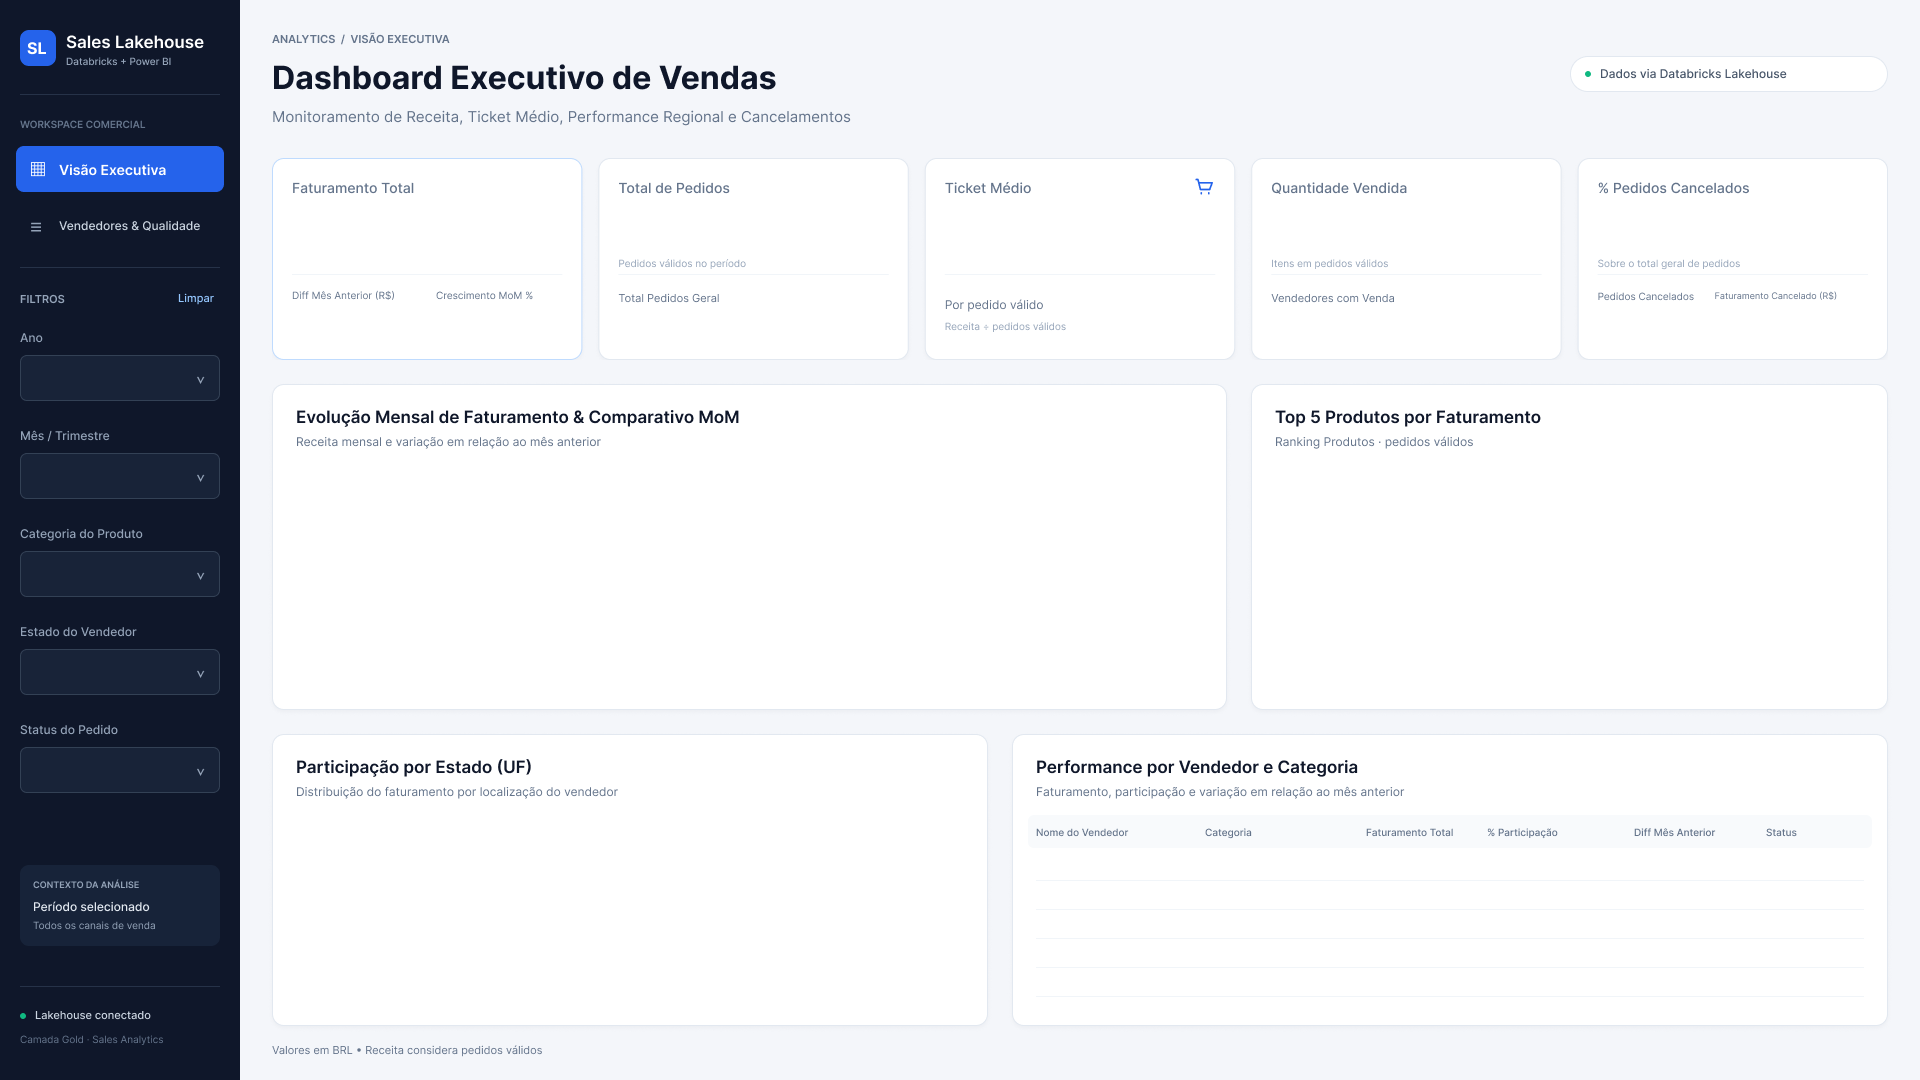

This screenshot's page, from the dashboard's own definition file:
{"tool":"powerbi","page":{"name":"Vendas","canvas":[1920,1080],"ordinal":0},"visuals":[{"type":"cardVisual","fields":{"Data":["Medidas.Faturamento Total"]},"box":[300,198.9,257.8,67.5],"z":0},{"type":"cardVisual","fields":{"Data":["Medidas.Diff Mês Anterior R$"]},"box":[269,288.5,170.1,69],"z":1000},{"type":"cardVisual","fields":{"Data":["Medidas.Crescimento MoM %"]},"box":[430.6,289.8,126.5,67.5],"z":2000},{"type":"cardVisual","fields":{"Data":["Medidas.Total de Pedidos"]},"box":[606.9,190.8,257.5,75.9],"z":3000},{"type":"cardVisual","fields":{"Data":["Medidas.Total Pedidos Geral"]},"box":[606.9,289.7,170.1,69],"z":4000},{"type":"cardVisual","fields":{"Data":["Medidas.Ticket Médio"]},"box":[935.6,190.8,257.5,75.9],"z":5000},{"type":"cardVisual","fields":{"Data":["Medidas.Quantidade Vendida"]},"box":[1256.8,192,258,75],"z":6000},{"type":"cardVisual","fields":{"Data":["Medidas.% Pedidos Cancelados"]},"box":[1589.8,190.9,258,75],"z":7000},{"type":"cardVisual","fields":{"Data":["Medidas.Pedidos Cancelados"]},"box":[1589.8,289.8,150,69.3],"z":8000},{"type":"cardVisual","fields":{"Data":["Medidas.Faturamento Cancelado"]},"box":[1709.1,289.8,150,69.3],"z":9000},{"type":"lineClusteredColumnComboChart","fields":{"Category":["dim_tempo.nome_mes"],"Y":["Medidas.Faturamento Total","Medidas.Faturamento Mês Anterior"],"Y2":["Medidas.Crescimento MoM %"]},"box":[285.5,427.5,930.4,273.9],"z":9001},{"type":"clusteredBarChart","fields":{"Category":["dim_vendedor.estado_vendedor"],"Y":["Medidas.Faturamento Total"]},"box":[285.5,779.7,465.2,239.1],"z":9002},{"type":"cardVisual","fields":{"Data":["Medidas.Faturamento RS"]},"box":[740,798.6,170.1,69],"z":9003},{"type":"cardVisual","fields":{"Data":["Medidas.Faturamento SP"]},"box":[740,855.1,170.1,69],"z":9004},{"type":"cardVisual","fields":{"Data":["Medidas.Faturamento BA"]},"box":[740,910.1,170.1,69],"z":9005},{"type":"cardVisual","fields":{"Data":["Medidas.% Participação RS"]},"box":[858.7,799.9,170.1,69],"z":9006},{"type":"cardVisual","fields":{"Data":["Medidas.% Participação SP"]},"box":[858,855.1,170.1,69],"z":9007},{"type":"cardVisual","fields":{"Data":["Medidas.% Participação BA"]},"box":[858,910.1,170.1,69],"z":9008},{"type":"clusteredBarChart","fields":{"Category":["dim_produto.nome_produto"],"Y":["Medidas.Faturamento Top 5 Produtos"]},"box":[1289.2,427,582.4,274.3],"z":9009},{"type":"tableEx","fields":{"Values":["dim_vendedor.nome_vendedor","dim_produto.categoria_produto","Medidas.Faturamento Total","Medidas.% Participação Faturamento","Medidas.Diff Mês Anterior R$","Medidas.Status Variação"]},"box":[1027.8,798.1,842.6,220.4],"z":9010},{"type":"slicer","fields":{"Values":["dim_tempo.ano"]},"box":[25.6,357.7,192.3,38.5],"z":9011},{"type":"slicer","fields":{"Values":["dim_tempo.nome_mes"]},"box":[26.9,453.8,192.3,39.7],"z":9012},{"type":"slicer","fields":{"Values":["dim_produto.categoria_produto"]},"box":[26.9,552.6,192.3,39.7],"z":9013},{"type":"slicer","fields":{"Values":["dim_vendedor.estado_vendedor"]},"box":[25.6,652.6,192.3,39.7],"z":9014},{"type":"slicer","fields":{"Values":["fato_vendas.status"]},"box":[25.7,747.3,193.2,40.5],"z":9015}]}

Visuals, with their boxes on the page's 1920x1080 design canvas (x1, y1, x2, y2). These are canvas units, not pixel positions in the 1920x1080 screenshot, which may show the page scaled, cropped or inside an application window:
cardVisual - Medidas.Faturamento Total: BBox(300, 199, 558, 266)
cardVisual - Medidas.Diff Mês Anterior R$: BBox(269, 288, 439, 358)
cardVisual - Medidas.Crescimento MoM %: BBox(431, 290, 557, 357)
cardVisual - Medidas.Total de Pedidos: BBox(607, 191, 864, 267)
cardVisual - Medidas.Total Pedidos Geral: BBox(607, 290, 777, 359)
cardVisual - Medidas.Ticket Médio: BBox(936, 191, 1193, 267)
cardVisual - Medidas.Quantidade Vendida: BBox(1257, 192, 1515, 267)
cardVisual - Medidas.% Pedidos Cancelados: BBox(1590, 191, 1848, 266)
cardVisual - Medidas.Pedidos Cancelados: BBox(1590, 290, 1740, 359)
cardVisual - Medidas.Faturamento Cancelado: BBox(1709, 290, 1859, 359)
lineClusteredColumnComboChart - dim_tempo.nome_mes x Medidas.Faturamento Total: BBox(286, 428, 1216, 701)
clusteredBarChart - dim_vendedor.estado_vendedor x Medidas.Faturamento Total: BBox(286, 780, 751, 1019)
cardVisual - Medidas.Faturamento RS: BBox(740, 799, 910, 868)
cardVisual - Medidas.Faturamento SP: BBox(740, 855, 910, 924)
cardVisual - Medidas.Faturamento BA: BBox(740, 910, 910, 979)
cardVisual - Medidas.% Participação RS: BBox(859, 800, 1029, 869)
cardVisual - Medidas.% Participação SP: BBox(858, 855, 1028, 924)
cardVisual - Medidas.% Participação BA: BBox(858, 910, 1028, 979)
clusteredBarChart - dim_produto.nome_produto x Medidas.Faturamento Top 5 Produtos: BBox(1289, 427, 1872, 701)
tableEx - dim_vendedor.nome_vendedor x dim_produto.categoria_produto: BBox(1028, 798, 1870, 1018)
slicer - dim_tempo.ano: BBox(26, 358, 218, 396)
slicer - dim_tempo.nome_mes: BBox(27, 454, 219, 494)
slicer - dim_produto.categoria_produto: BBox(27, 553, 219, 592)
slicer - dim_vendedor.estado_vendedor: BBox(26, 653, 218, 692)
slicer - fato_vendas.status: BBox(26, 747, 219, 788)
